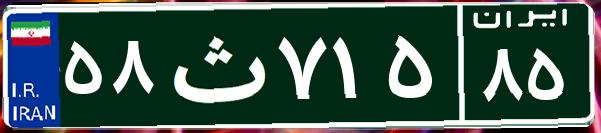1: (330, 28, 385, 110)
5: (385, 28, 445, 110), (57, 26, 110, 107), (525, 38, 570, 115)
7: (273, 28, 330, 110)
8: (475, 38, 525, 113), (110, 28, 158, 105)
ث: (158, 15, 273, 115)
